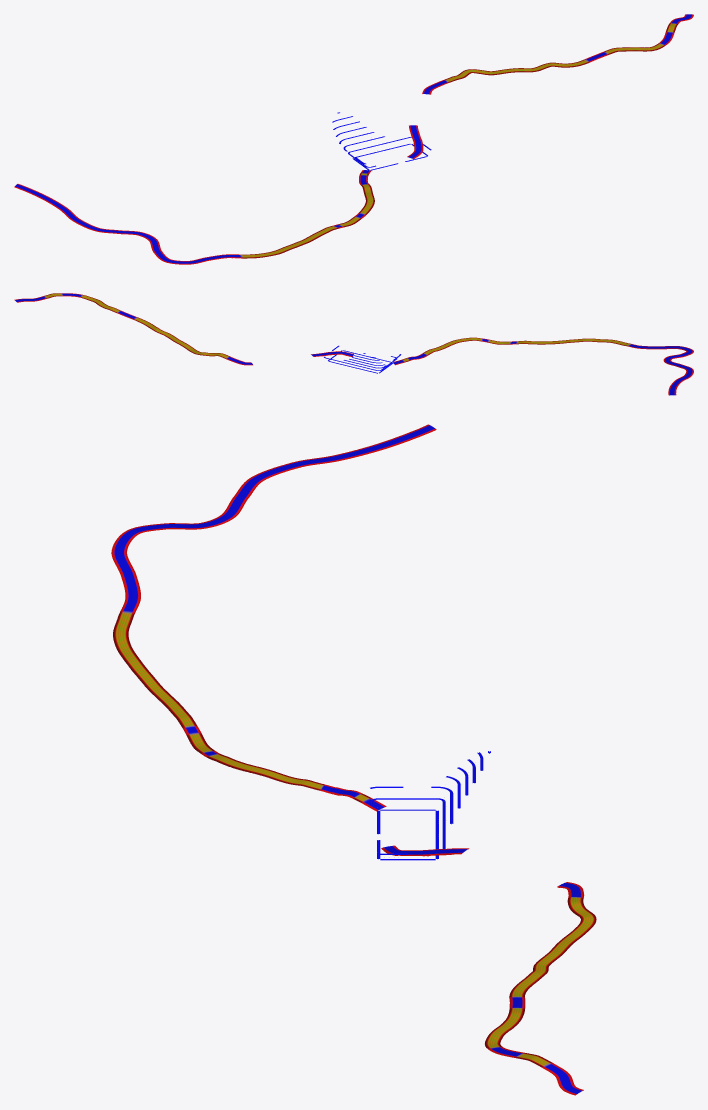
File: powerhouse-civil.glb
3 views of the same model, one above another, from view 1: azimuth 30°, elevation 25°; view 2: azimuth 150°, elevation 25°; view 3: azimuth 270°, elevation 25° (orthographic). The views are drawn at different scales.
Parts seen in each view (by area): view 1: road, drain; view 2: road, drain; view 3: road, drain.
Part boxes in pixels (x1,y1,x2,y2): road: (14, 14, 693, 264); drain: (332, 112, 431, 170); road: (14, 293, 693, 395); drain: (324, 345, 401, 373); road: (111, 424, 596, 1095); drain: (370, 751, 490, 860).
Size of the model in its own units: 936 by 70.25 by 314.
